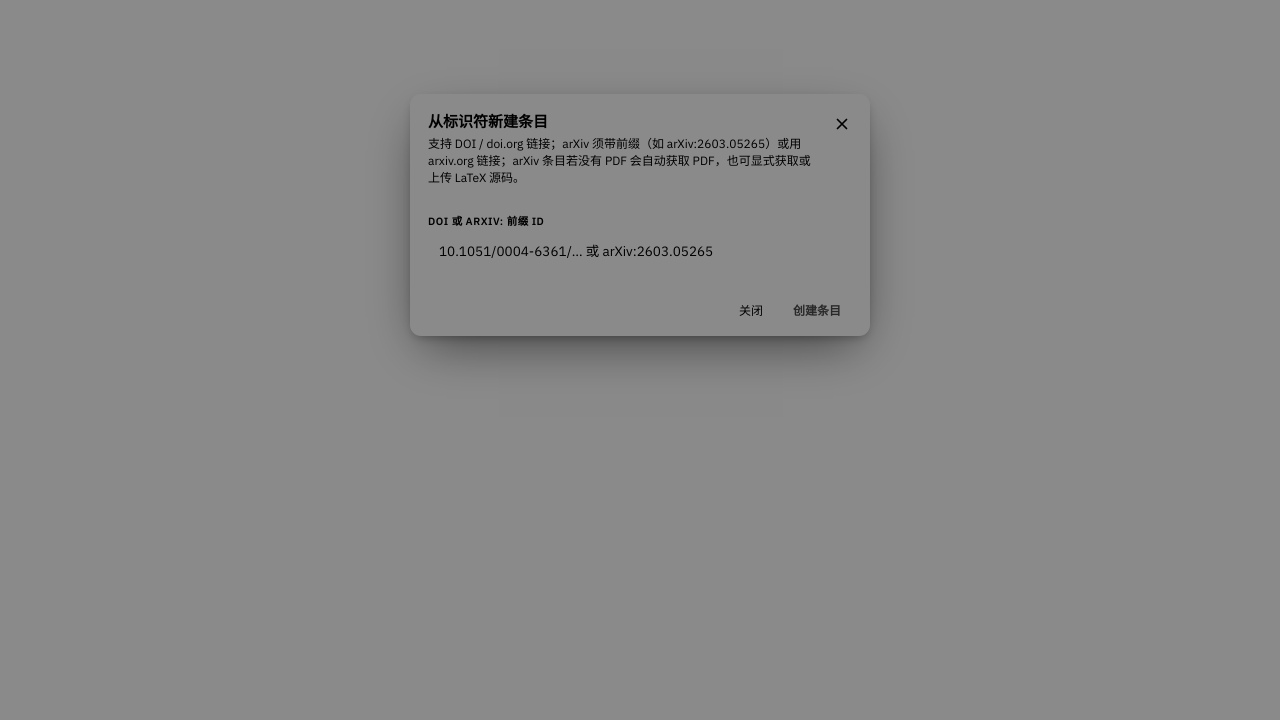
Test: identifier dialog › an entry whose summary cannot be read is still offered, without counts
Type "10.1051/gaia.2018" into the field with placeholder "10.1051/0004-6361/… 或 arXiv:2603.05265" at (640,251), box [428,234,852,268]
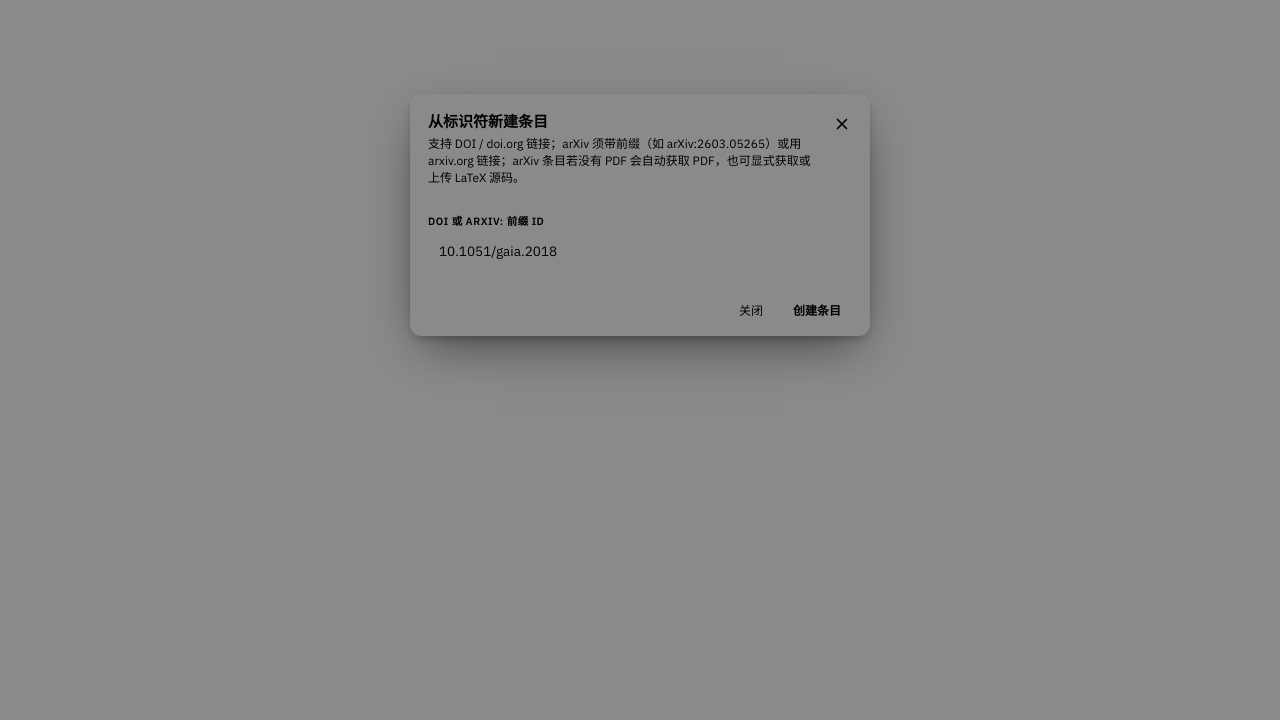
Click the button "创建条目" at (817,310), box [782,296,852,324]
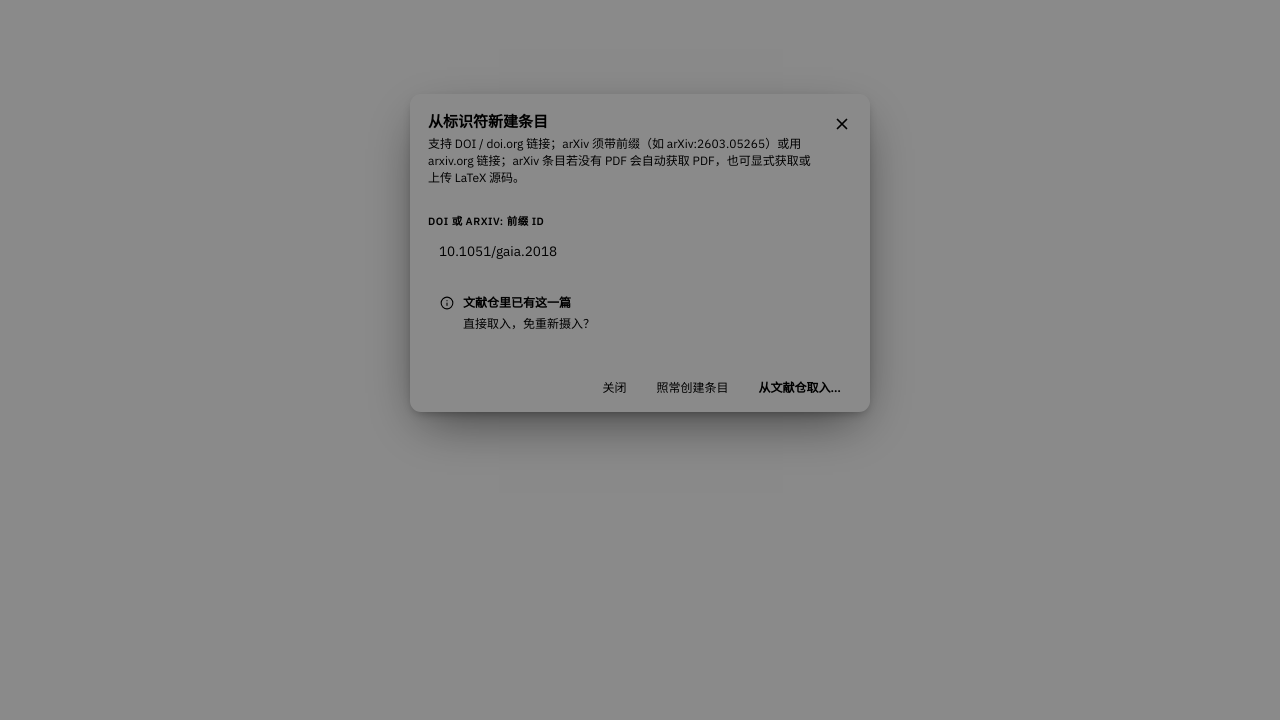
Result: the message "文献仓里已有这一篇 直接取入，免重新摄入？" is shown at [440,295,595,331]
